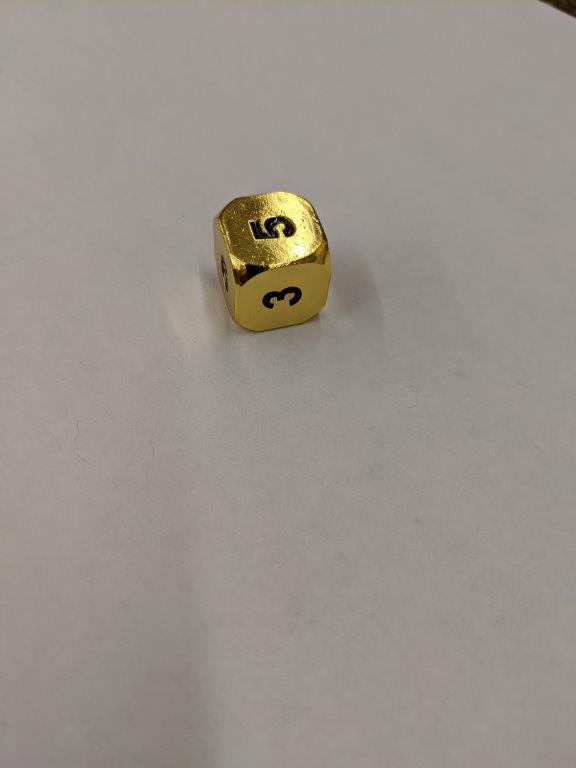d6-5: (212, 190, 333, 332)
